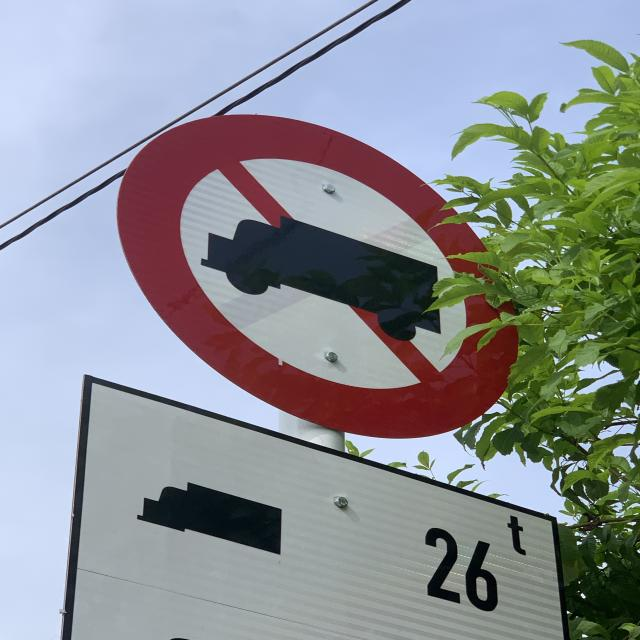Cam_Xe_Tai: (118, 112, 535, 440)
